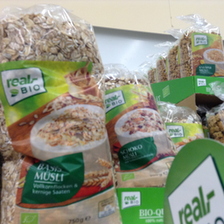cereal: (1, 18, 121, 223), (100, 66, 183, 184), (182, 28, 223, 77)
